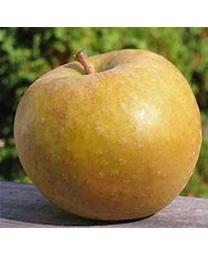apple: (12, 47, 201, 220)
